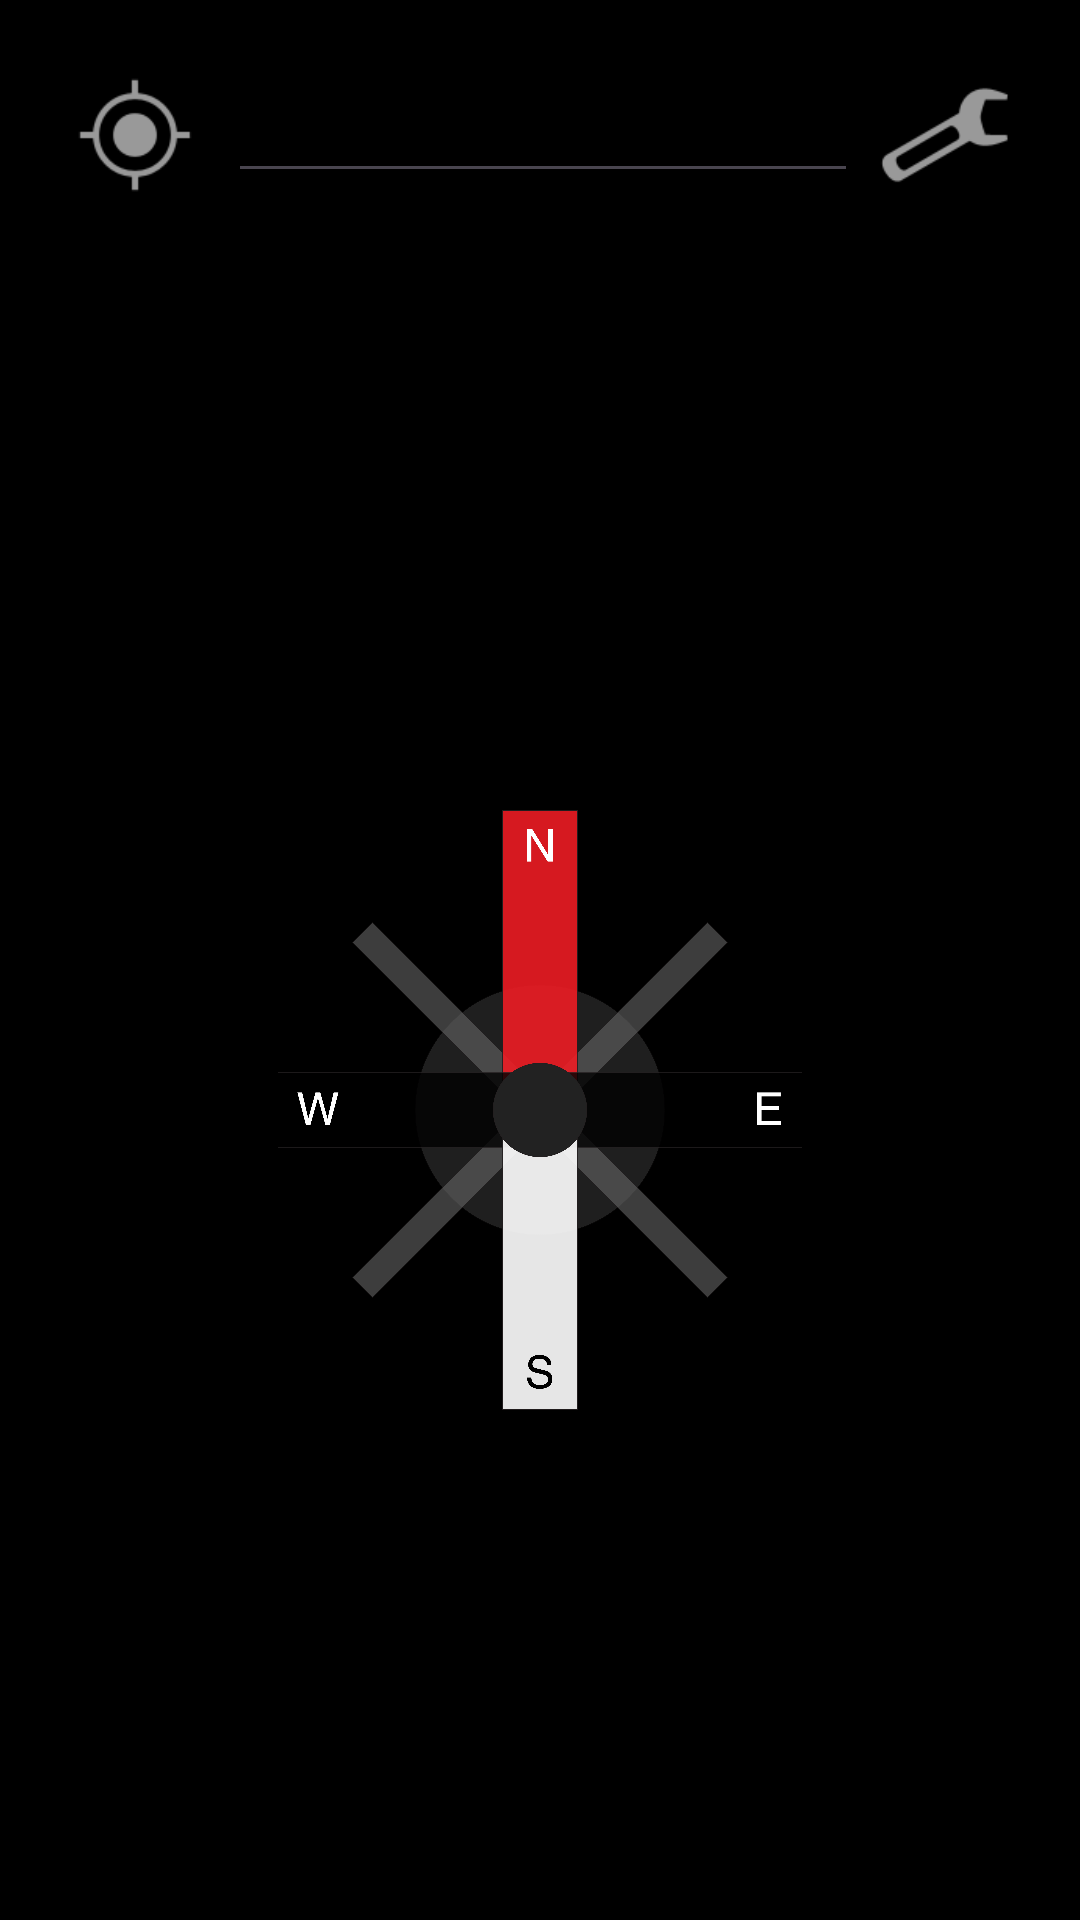

Icon bounding boxes for this 1080×1920 phone screenshot, format (x1, y1, x2, y2):
Settings Icon: (882, 88, 1008, 182)
